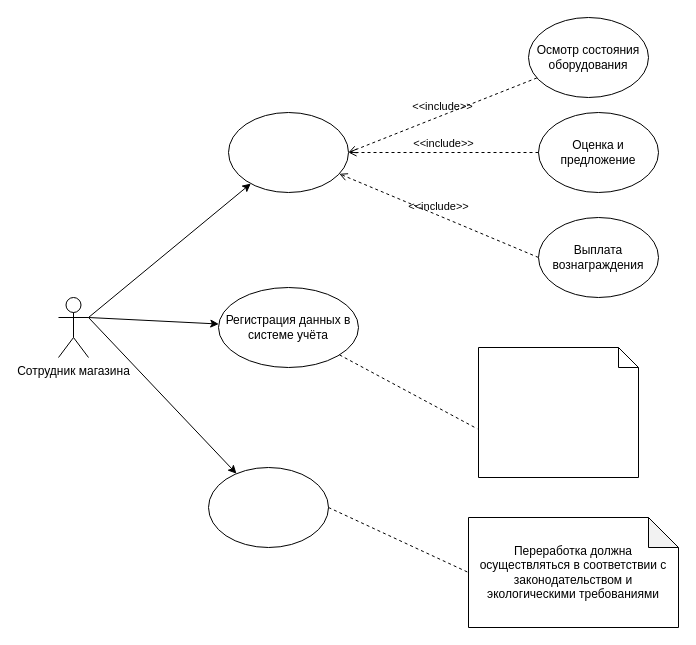
Some shapes in this 696 by 645 pixel diagram are drawn without their labels. The centre of each missing label's shape, as x and y in pixels:
"Вся информация о сданном оборудовании (модель, состояние, сделанное предложение)" goes at point 558,412.
"Переработка и утилизация" goes at point 268,507.
"Принятие оборудования" goes at point 288,152.
